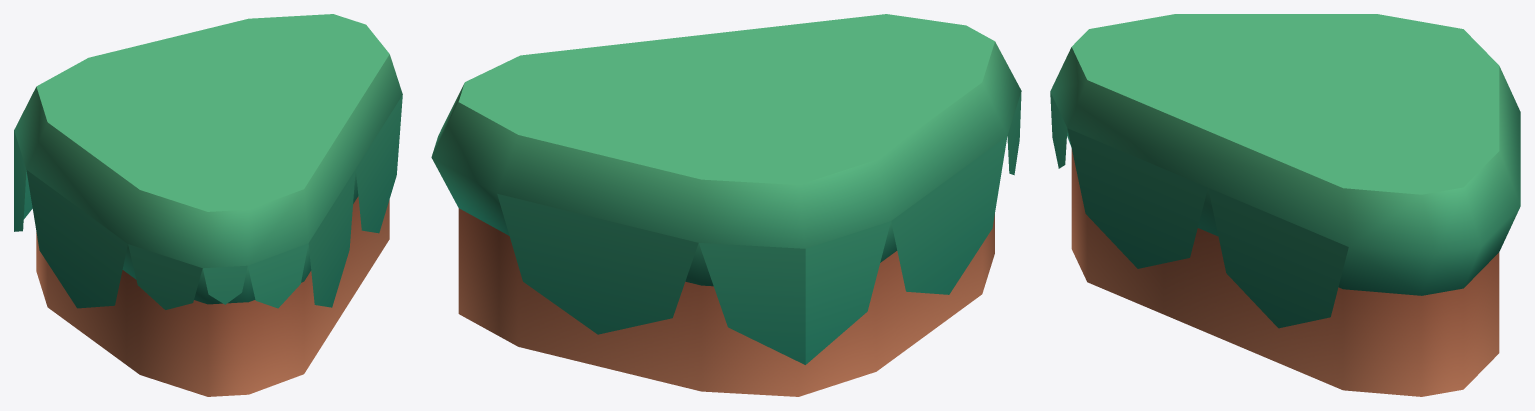
The model's file is block-grass-corner-overhang-low.glb.
3 renders of one model, left to right at view 1: azimuth 30°, elevation 25°; view 2: azimuth 150°, elevation 25°; view 3: azimuth 270°, elevation 25°, orthographic. The views are drawn at different scales.
Visible parts, largest first — view 1: block-grass-corner-overhang-low; view 2: block-grass-corner-overhang-low; view 3: block-grass-corner-overhang-low.
Part boxes in pixels (bbox=[...]): block-grass-corner-overhang-low: bbox=[14, 14, 402, 396]; block-grass-corner-overhang-low: bbox=[431, 14, 1021, 396]; block-grass-corner-overhang-low: bbox=[1050, 14, 1520, 396].
Bounding box in the file's own units: 1.05 × 0.5 × 1.05.
Materials: 1 (1 with a texture image).
